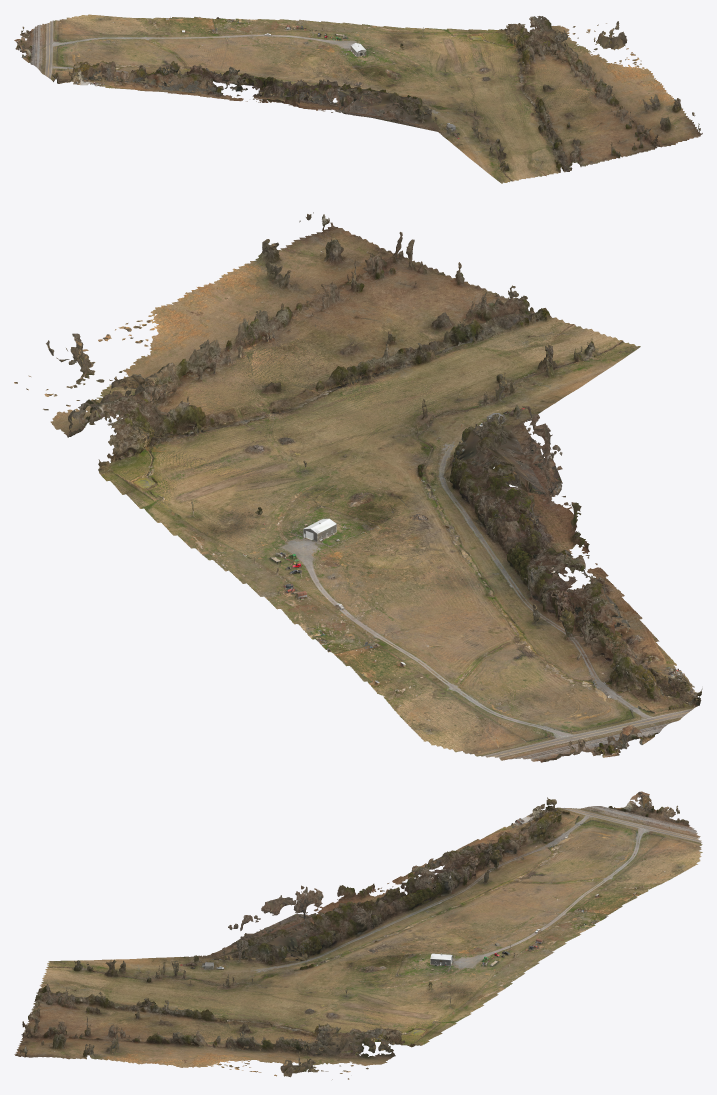
Rendered from 750_railroad_ave_shelbyville_tn_real_estate.glb.
3 views of the same model, one above another, from view 1: azimuth 30°, elevation 25°; view 2: azimuth 150°, elevation 25°; view 3: azimuth 270°, elevation 25° (orthographic). The views are drawn at different scales.
Parts seen in each view (by area): view 1: Model; view 2: Model; view 3: Model.
Boxes of the visible parts, x1,y1,x2,y2 form: Model: (14, 14, 702, 183); Model: (14, 212, 702, 762); Model: (14, 791, 702, 1079).
Bounding box in the file's own units: 485 × 34.26 × 507.
10 materials, 10 textured.
